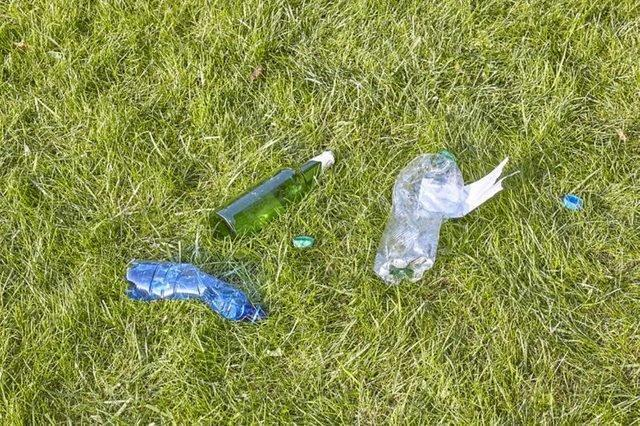bottle: (370, 134, 478, 292), (203, 147, 339, 244), (120, 252, 267, 328)
